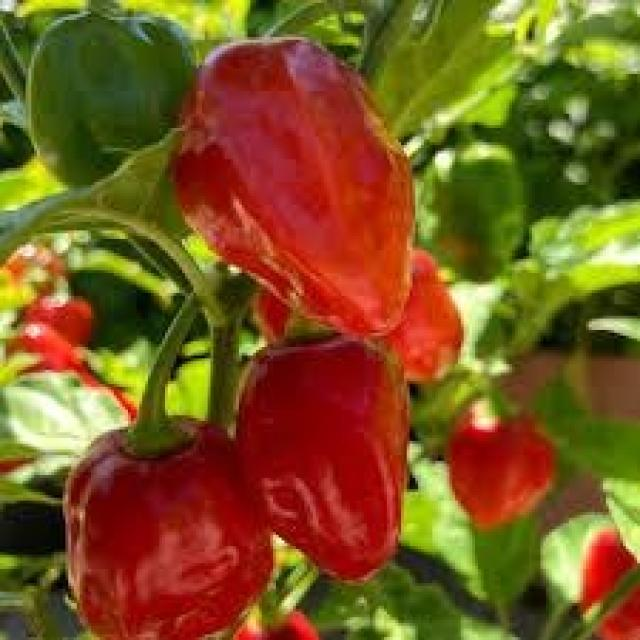bell_pepper: (162, 38, 425, 345)
